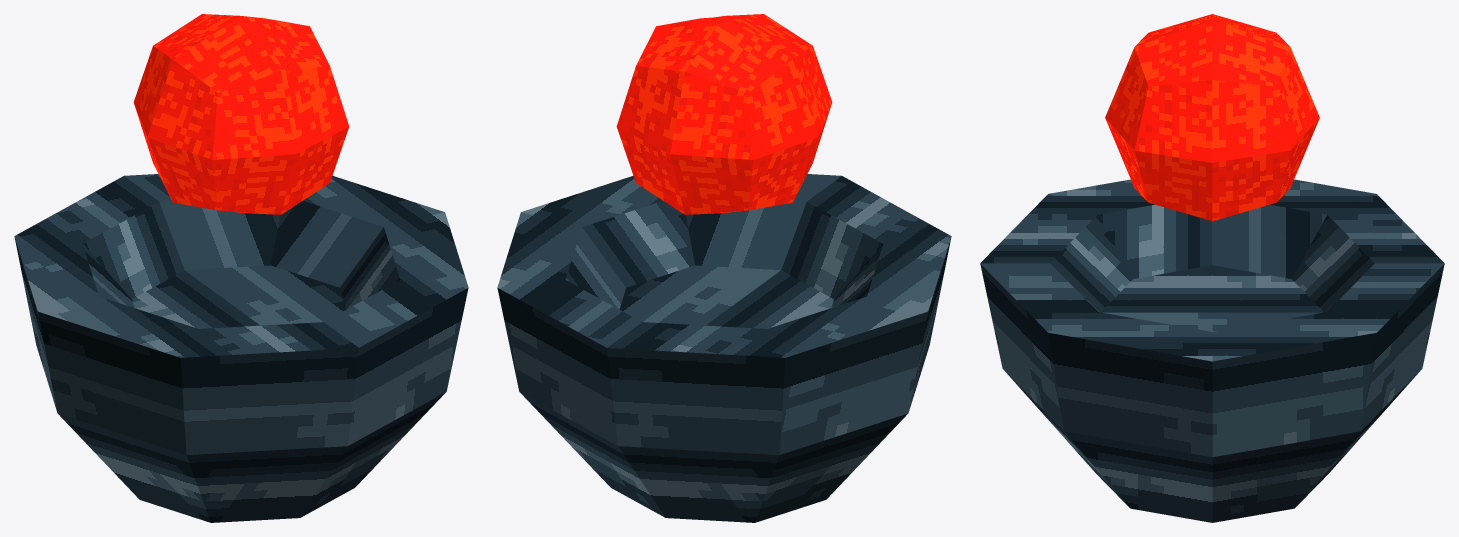
File: OrbLight.glb
The picture shows the model from 3 angles, left to right: view 1: azimuth 30°, elevation 25°; view 2: azimuth 150°, elevation 25°; view 3: azimuth 270°, elevation 25°; orthographic projection.
Parts seen in each view (by area): view 1: GlowingOrb; view 2: GlowingOrb; view 3: GlowingOrb.
Part boxes in pixels (bbox=[...]): GlowingOrb: bbox=[14, 14, 468, 522]; GlowingOrb: bbox=[497, 14, 951, 522]; GlowingOrb: bbox=[980, 14, 1444, 522].
Size of the model in its own units: 2 by 2.15 by 2.
2 materials, 2 textured.
